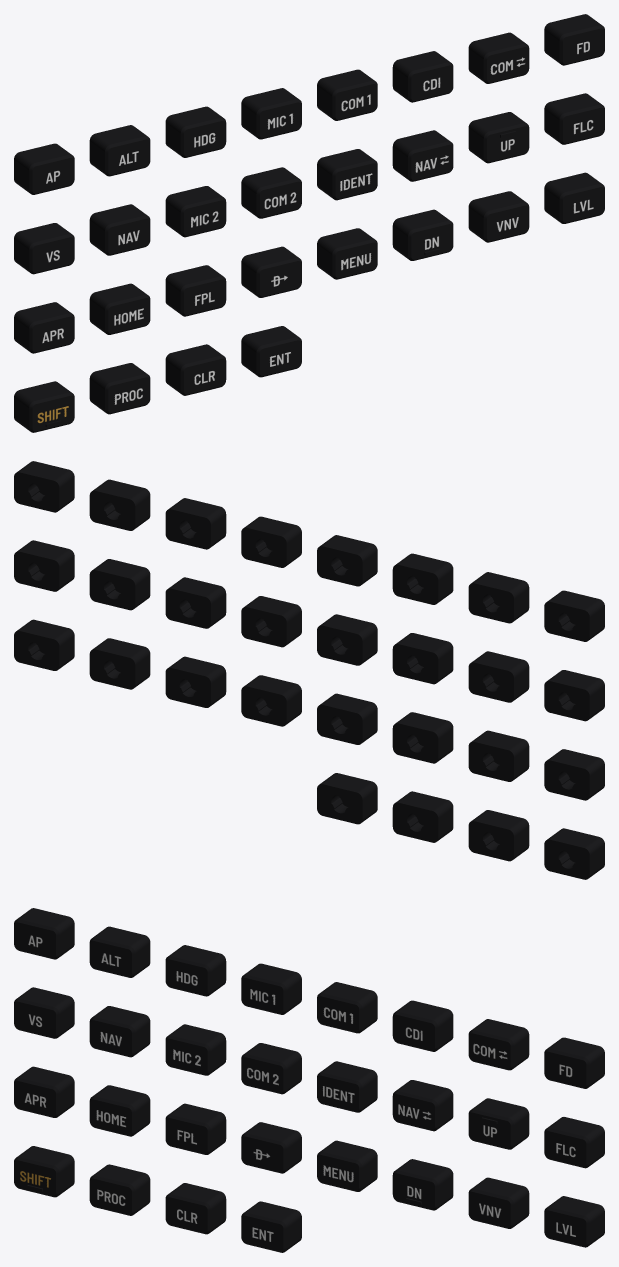
The model's file is avionics-panel-rev1-caps.obj.
3 views of the same model, one above another, from view 1: azimuth 30°, elevation 25°; view 2: azimuth 150°, elevation 25°; view 3: azimuth 330°, elevation 25° (orthographic).
Size of the model in its own units: 122 by 54.4 by 6.35.
Materials: 1 (1 with a texture image).
